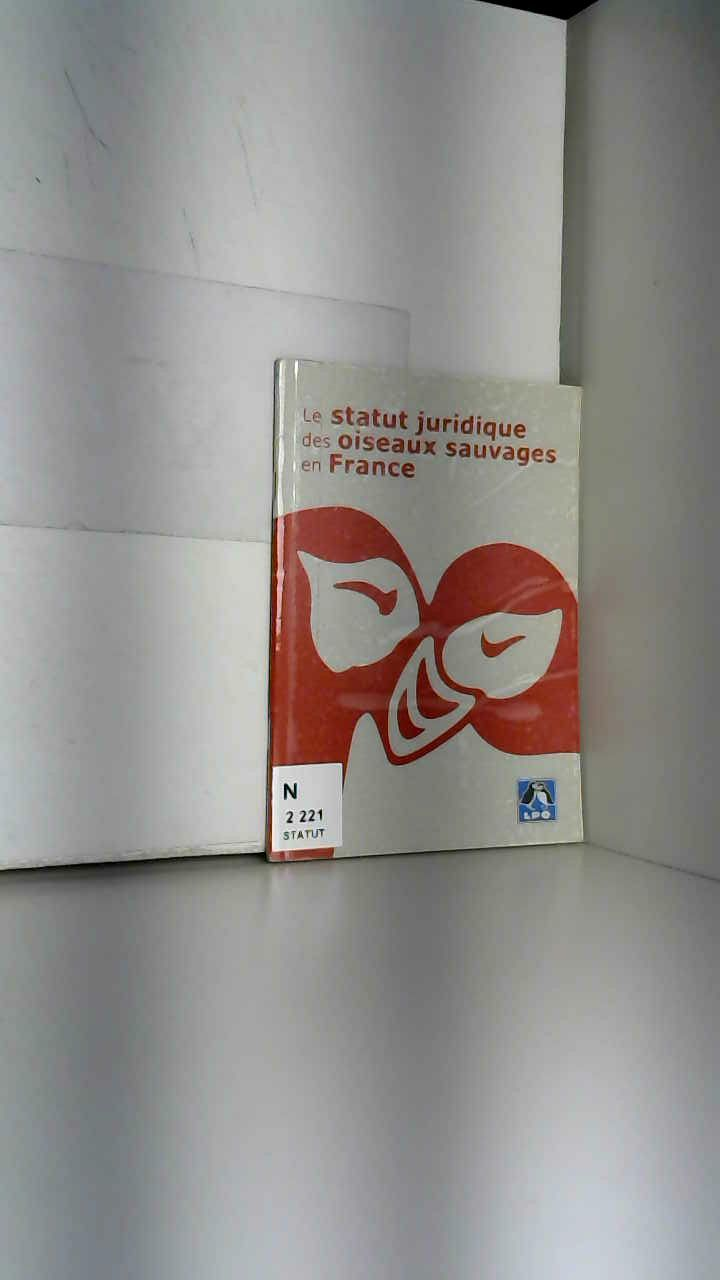book: (238, 313, 624, 918)
